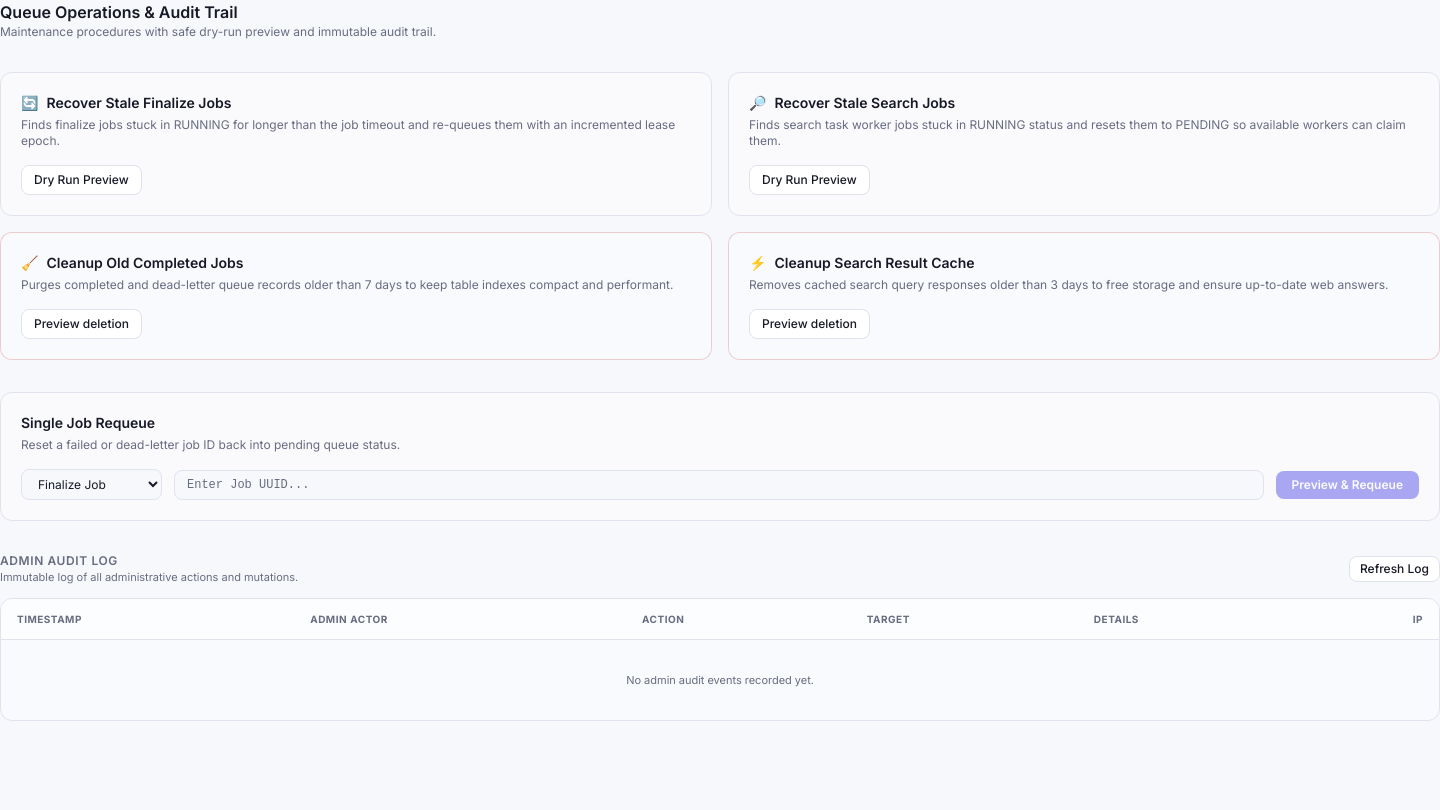
Scenario: admin OperationsTab › explains a refused finalize requeue: A newer finalize job has superseded this one
Step 1. Type "0f5e7c1a-2b3d-4e5f-8a9b-0c1d2e3f4a5b" into the field with placeholder "Enter Job UUID..." → (719, 484), box top-left (174, 470), bottom-right (1264, 500)
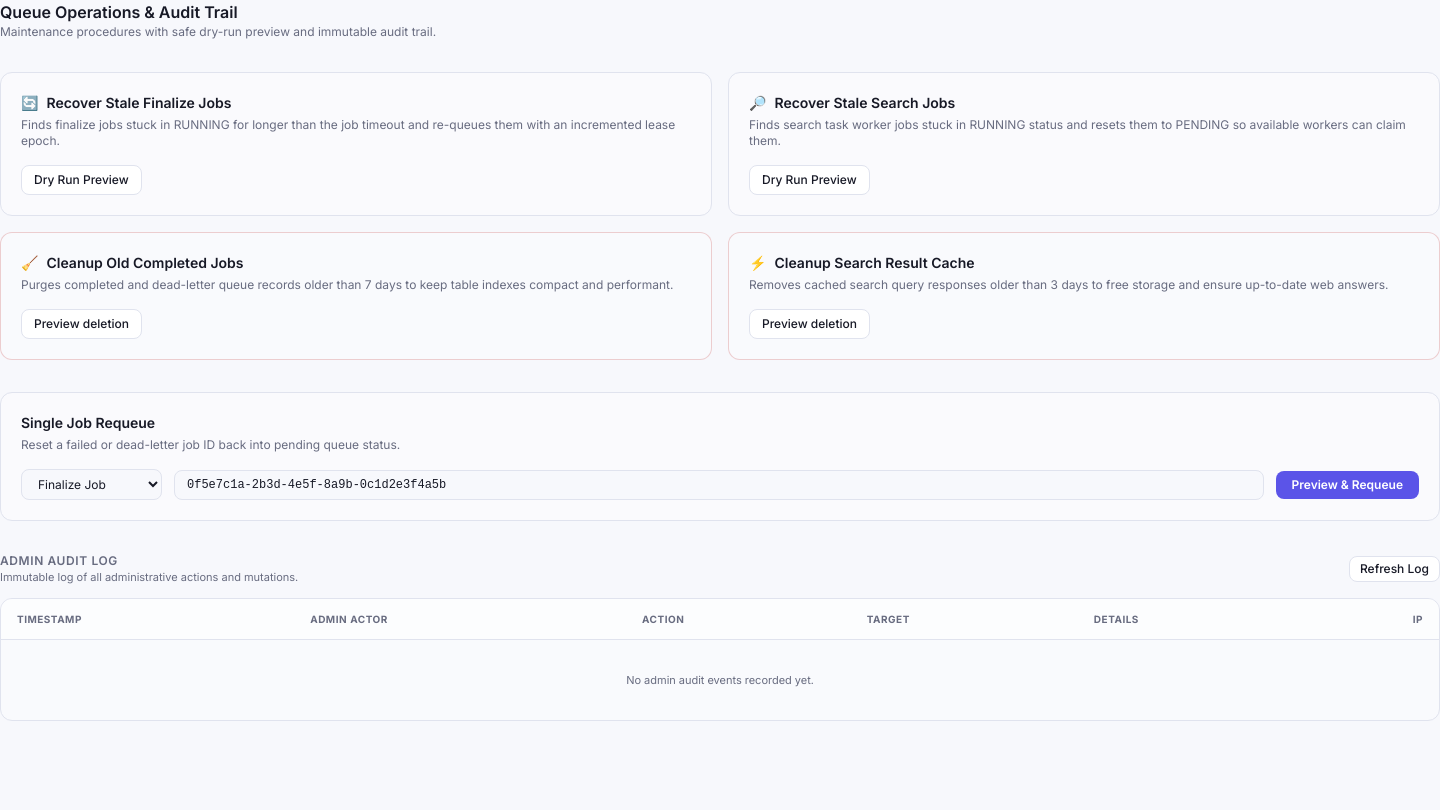
Step 2. Click the button "Preview & Requeue" → (1347, 484), box top-left (1276, 470), bottom-right (1419, 498)
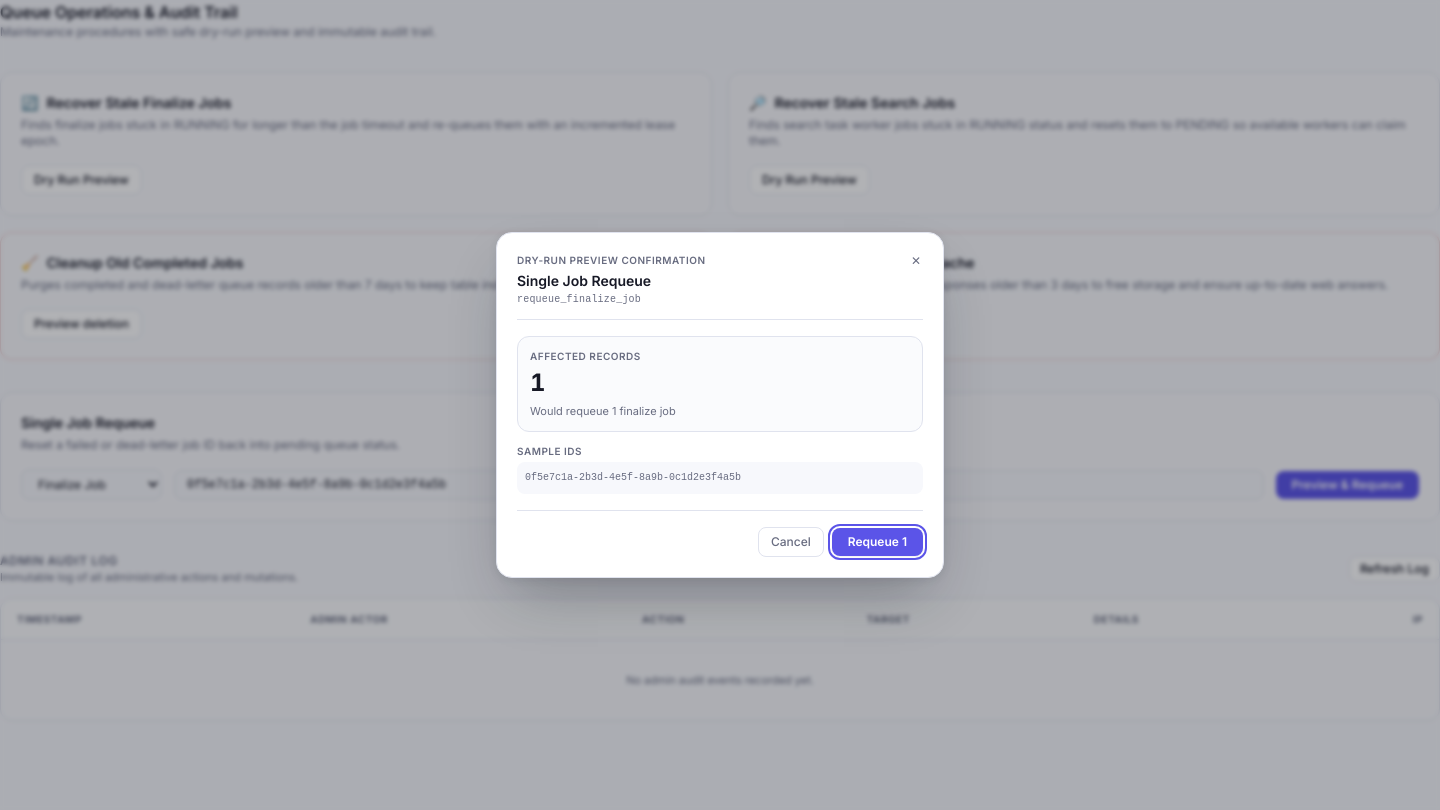
Step 3. Click the button with test id "confirm-op" → (877, 542), box top-left (832, 528), bottom-right (923, 556)
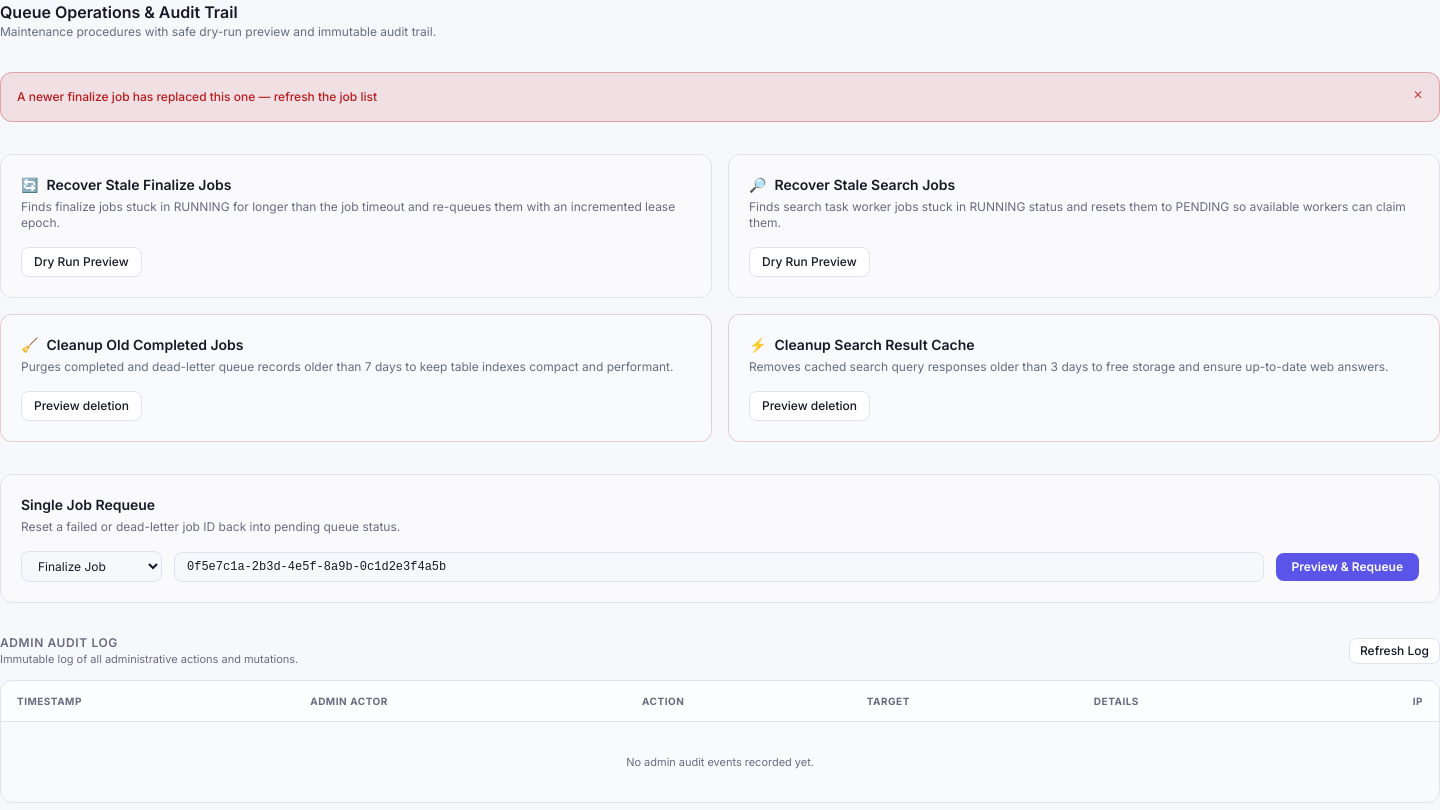
Result: the text "A newer finalize job has replaced this one — refresh the job list" is shown at top-left (17, 89), bottom-right (377, 105)
